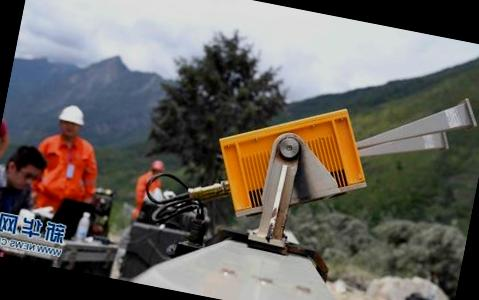no_helmet: (0, 137, 55, 198)
